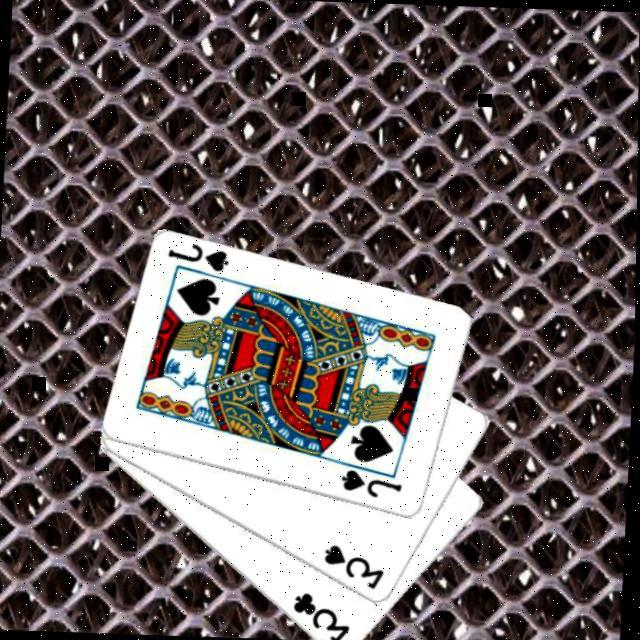3C: (288, 589, 354, 640)
3S: (318, 542, 388, 594)
JS: (337, 467, 405, 503), (162, 242, 230, 276)
